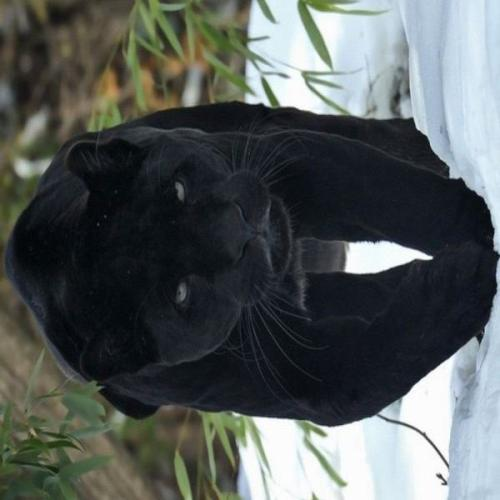panther-endangered: (9, 102, 494, 426)
